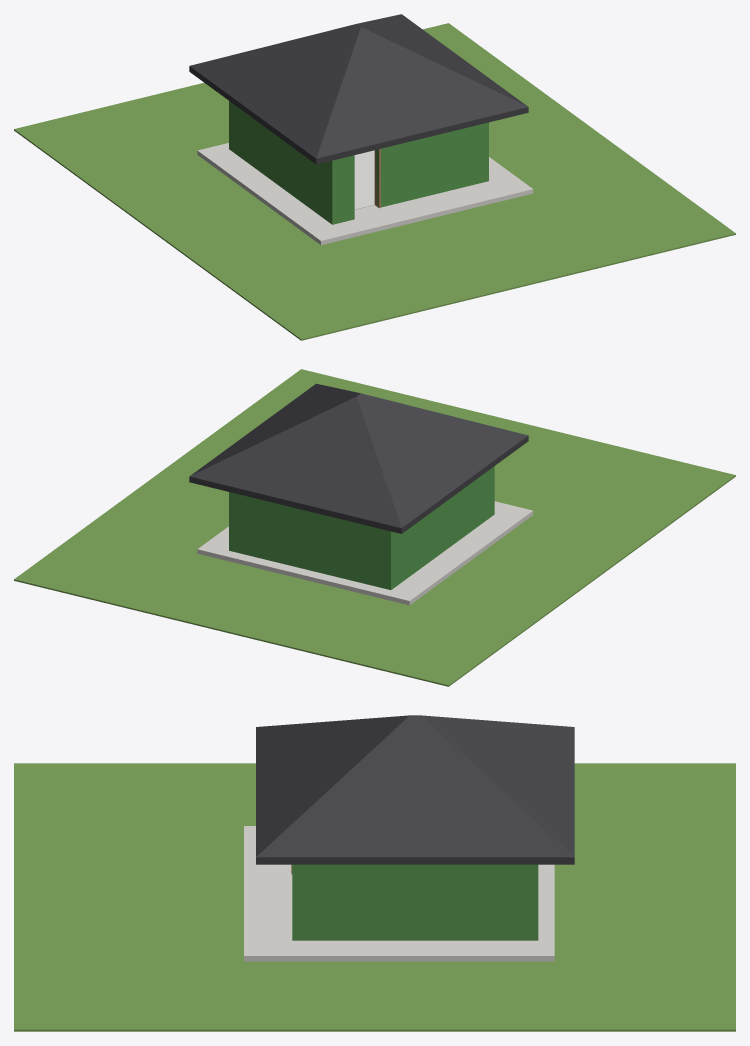
The model's file is banos_hombres.glb.
The picture shows the model from 3 angles, top to bottom: view 1: azimuth 30°, elevation 25°; view 2: azimuth 150°, elevation 25°; view 3: azimuth 270°, elevation 25°; orthographic projection. The views are drawn at different scales.
Visible parts, largest first — view 1: Baños para hombres; view 2: Baños para hombres; view 3: Baños para hombres.
Boxes of the visible parts, bbox=[...] form: Baños para hombres: bbox=[14, 14, 735, 340]; Baños para hombres: bbox=[14, 369, 735, 686]; Baños para hombres: bbox=[14, 715, 735, 1031].
Bounding box in the file's own units: 15.64 × 5.01 × 17.9.
